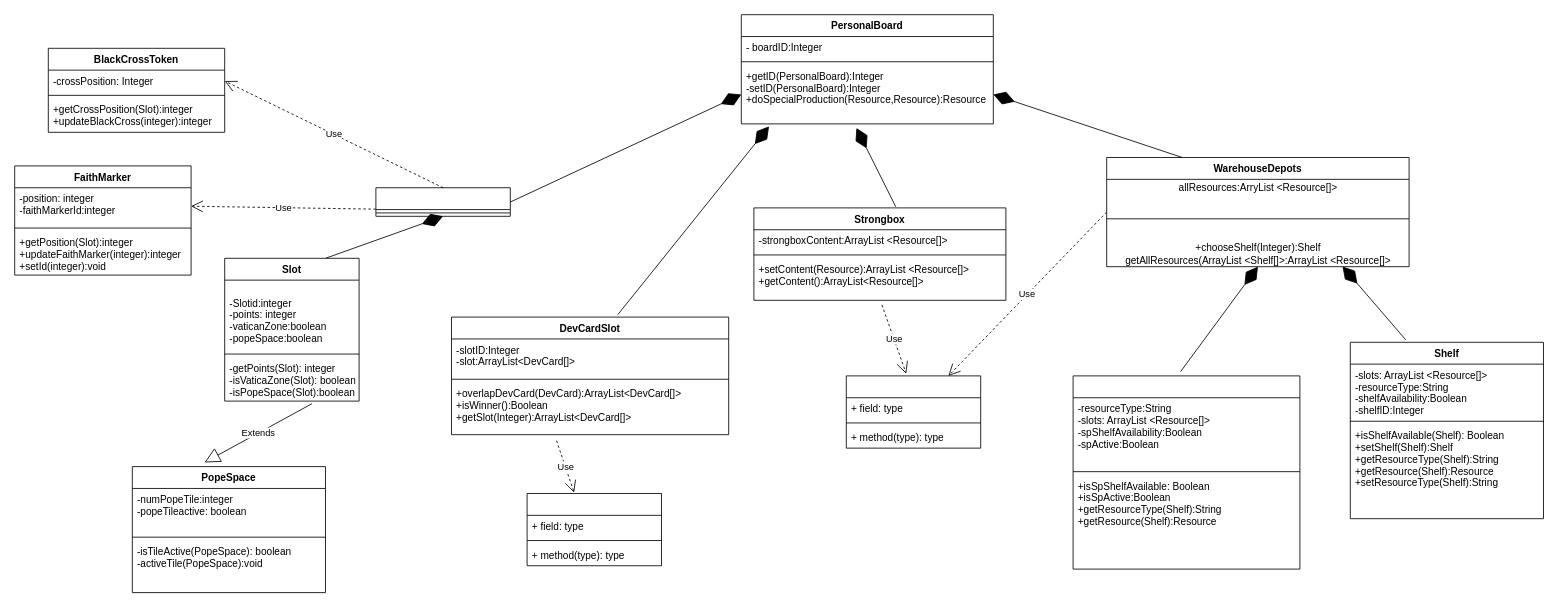
Image size: 1558x610. Some labels were removed from this diagram. Each missing label, with the box of its shape:
DevelopmentCards: (526, 493, 662, 566)
FaithTrack: (375, 187, 510, 216)
Resources: (845, 375, 981, 448)
SpecialShelf: (1072, 375, 1300, 569)
